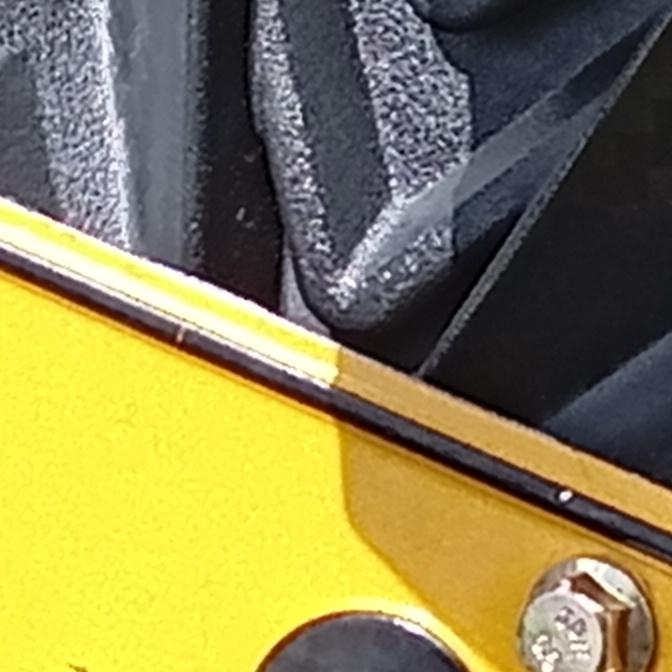plates: (0, 209, 672, 672)
